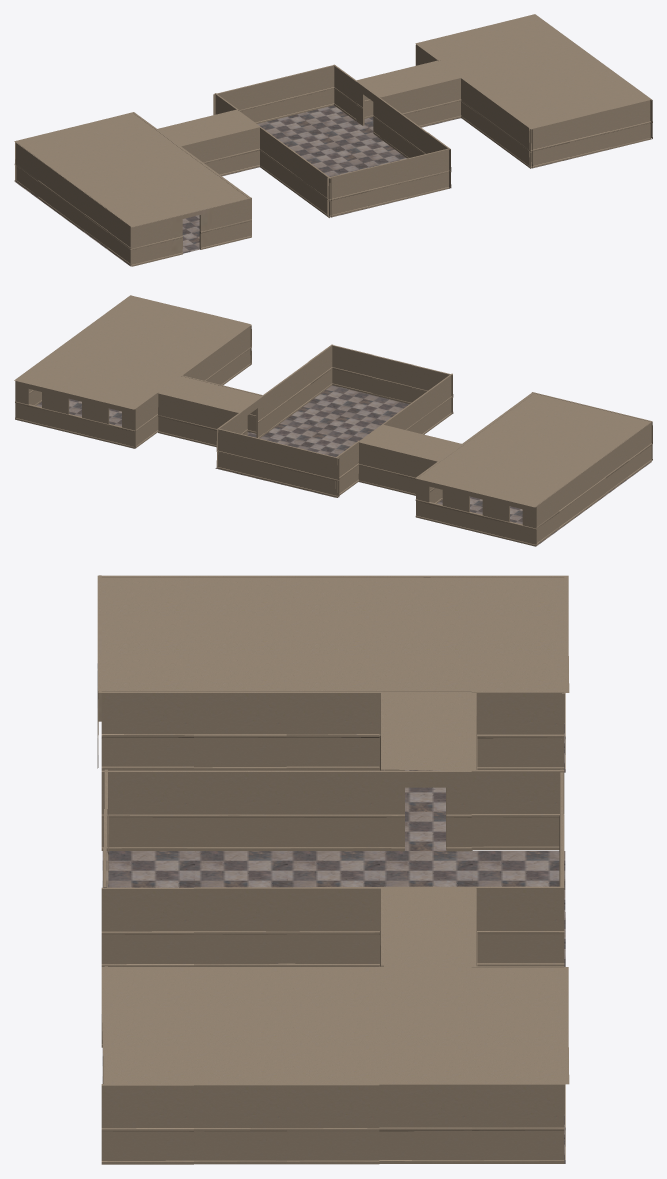
The model's file is level03.fbx.
3 renders of one model, top to bottom at view 1: azimuth 30°, elevation 25°; view 2: azimuth 150°, elevation 25°; view 3: azimuth 270°, elevation 25°, orthographic. The views are drawn at different scales.
Visible parts, largest first — view 1: Wall_Small_Plain.030; view 2: Wall_Small_Plain.030; view 3: Wall_Small_Plain.030.
Boxes of the visible parts, x1,y1,x2,y2 form: Wall_Small_Plain.030: [14, 14, 652, 266]; Wall_Small_Plain.030: [14, 295, 652, 546]; Wall_Small_Plain.030: [97, 575, 569, 1164].
Size of the model in its own units: 4155 by 304 by 1626.
